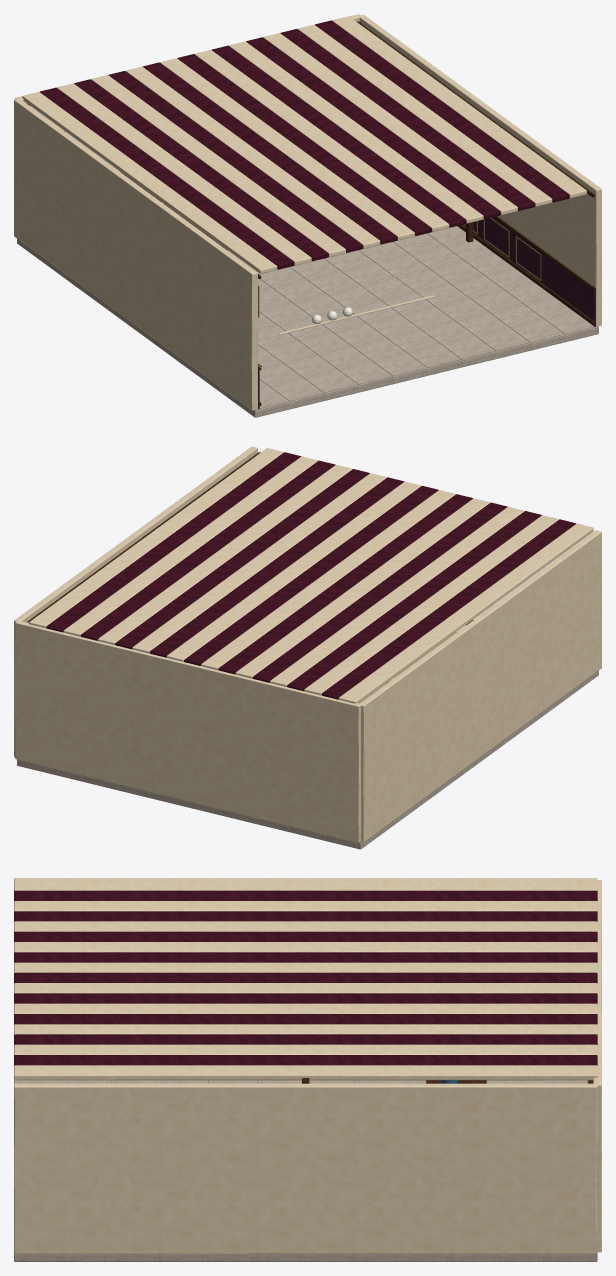
Rendered from can_toss_booth.glb.
The picture shows the model from 3 angles, top to bottom: view 1: azimuth 30°, elevation 25°; view 2: azimuth 150°, elevation 25°; view 3: azimuth 270°, elevation 25°; orthographic projection. The views are drawn at different scales.
Parts seen in each view (by area): view 1: Rebuilt_can_toss_booth; view 2: Rebuilt_can_toss_booth; view 3: Rebuilt_can_toss_booth.
Boxes of the visible parts, left/top/right/bottom form: Rebuilt_can_toss_booth: left=14, top=14, right=601, bottom=417; Rebuilt_can_toss_booth: left=14, top=446, right=601, bottom=849; Rebuilt_can_toss_booth: left=14, top=878, right=601, bottom=1261.
Bounding box in the file's own units: 10.18 × 4.08 × 12.09.
Materials: 12 (11 with a texture image).
